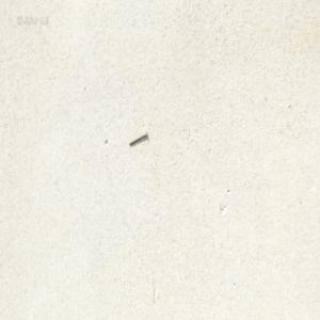Bolttrack_idkeyframe: (128, 130, 146, 145)
